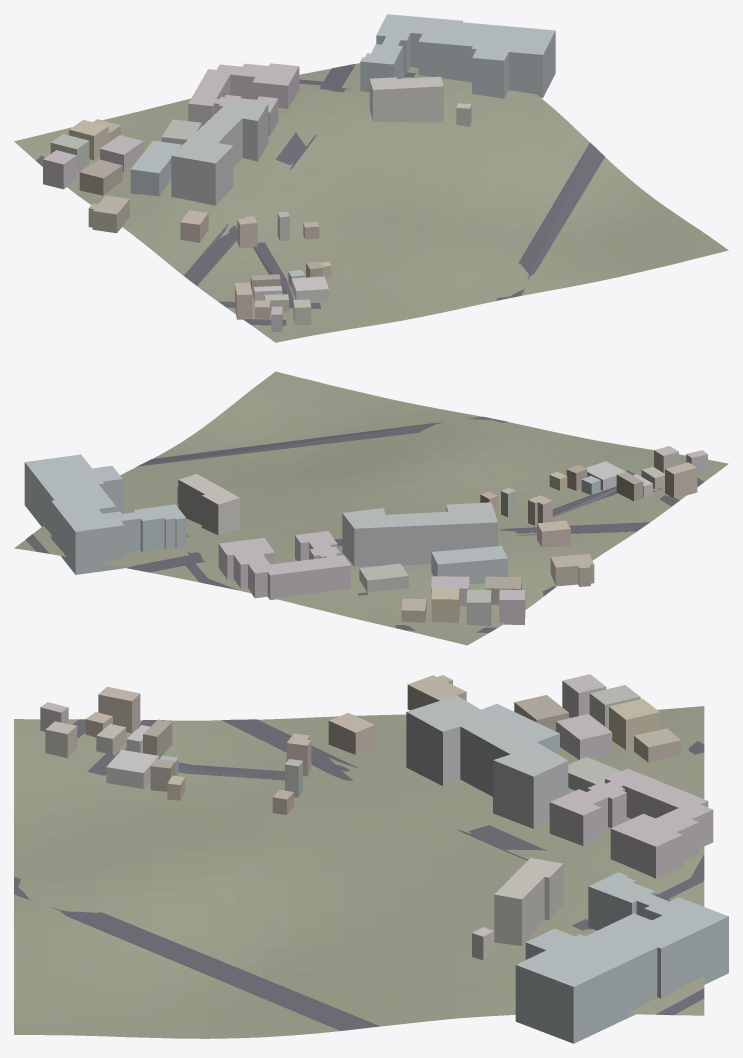
Rendered from chunk_0_8.glb.
3 renders of one model, top to bottom at view 1: azimuth 30°, elevation 25°; view 2: azimuth 150°, elevation 25°; view 3: azimuth 270°, elevation 25°, orthographic. The views are drawn at different scales.
Parts seen in each view (by area): view 1: geometry_29, geometry_1, geometry_25, geometry_0, geometry_21, geometry_36, geometry_30, geometry_24, geometry_22, geometry_6, geometry_7, geometry_5 (+8 smaller); view 2: geometry_29, geometry_1, geometry_25, geometry_0, geometry_21, geometry_24, geometry_36, geometry_30, geometry_22, geometry_23, geometry_16, geometry_13 (+11 smaller); view 3: geometry_29, geometry_1, geometry_25, geometry_0, geometry_36, geometry_21, geometry_30, geometry_5, geometry_16, geometry_18, geometry_11, geometry_13 (+16 smaller).
Part boxes in pixels (x1,y1,x2,y2): geometry_29: [14, 63, 728, 342]; geometry_1: [360, 14, 555, 98]; geometry_25: [171, 100, 268, 205]; geometry_0: [188, 63, 299, 136]; geometry_21: [369, 76, 443, 122]; geometry_36: [496, 142, 604, 300]; geometry_30: [183, 64, 354, 285]; geometry_24: [130, 140, 181, 196]; geometry_22: [88, 195, 129, 233]; geometry_6: [79, 159, 122, 195]; geometry_7: [43, 150, 76, 189]; geometry_5: [100, 135, 143, 172]; geometry_29: [14, 371, 728, 645]; geometry_1: [24, 454, 186, 574]; geometry_25: [342, 502, 497, 566]; geometry_0: [218, 531, 350, 600]; geometry_21: [178, 474, 239, 535]; geometry_24: [431, 546, 507, 583]; geometry_36: [137, 416, 507, 466]; geometry_30: [126, 522, 649, 572]; geometry_22: [550, 554, 594, 586]; geometry_23: [359, 563, 408, 592]; geometry_16: [431, 586, 459, 623]; geometry_13: [665, 462, 697, 497]; geometry_29: [14, 706, 704, 1038]; geometry_1: [515, 872, 728, 1043]; geometry_25: [406, 695, 568, 828]; geometry_0: [549, 768, 713, 878]; geometry_36: [14, 876, 379, 1030]; geometry_21: [494, 858, 563, 945]; geometry_30: [222, 719, 670, 901]; geometry_5: [556, 714, 612, 759]; geometry_16: [609, 698, 659, 750]; geometry_18: [328, 713, 374, 754]; geometry_11: [106, 750, 158, 788]; geometry_13: [98, 686, 140, 733].
Bounding box in the file's own units: 285 × 37.63 × 259.
